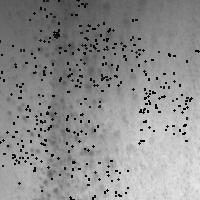pitted_surface: (10, 1, 138, 200), (78, 24, 138, 84), (57, 32, 117, 91), (14, 131, 73, 190), (138, 49, 197, 108), (39, 95, 99, 150), (132, 82, 186, 142), (77, 3, 135, 58), (0, 105, 48, 165), (0, 39, 43, 99), (43, 34, 90, 86), (29, 0, 86, 41), (69, 160, 127, 200)
